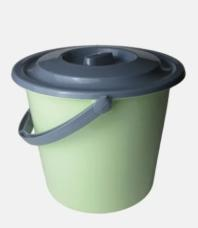SEAU: (0, 3, 192, 221)
